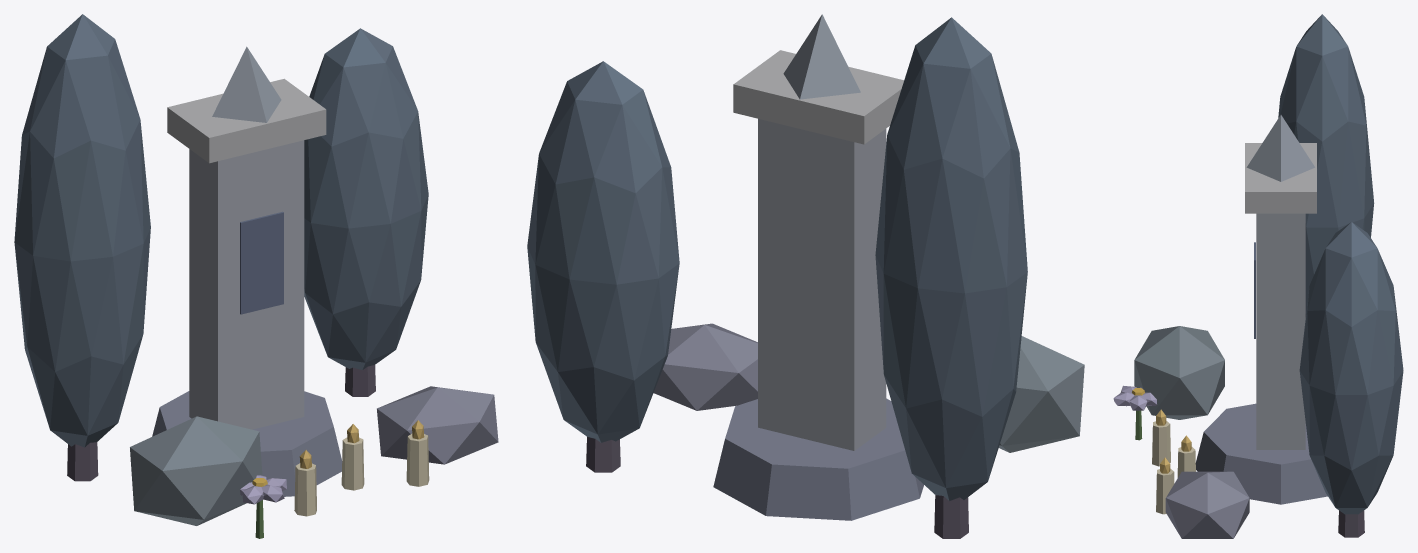
File: xingyin-environment-v2__grave_memorial_group.glb
The picture shows the model from 3 angles, left to right: view 1: azimuth 30°, elevation 25°; view 2: azimuth 150°, elevation 25°; view 3: azimuth 270°, elevation 25°; orthographic projection. The views are drawn at different scales.
Visible parts, largest first — view 1: grave_memorial_group; view 2: grave_memorial_group; view 3: grave_memorial_group.
Boxes of the visible parts, box(x1,y1,x2,y2) form: grave_memorial_group: box(14, 14, 498, 538); grave_memorial_group: box(527, 14, 1084, 538); grave_memorial_group: box(1113, 14, 1403, 538).
Size of the model in its own units: 3.06 by 3.34 by 2.18.
